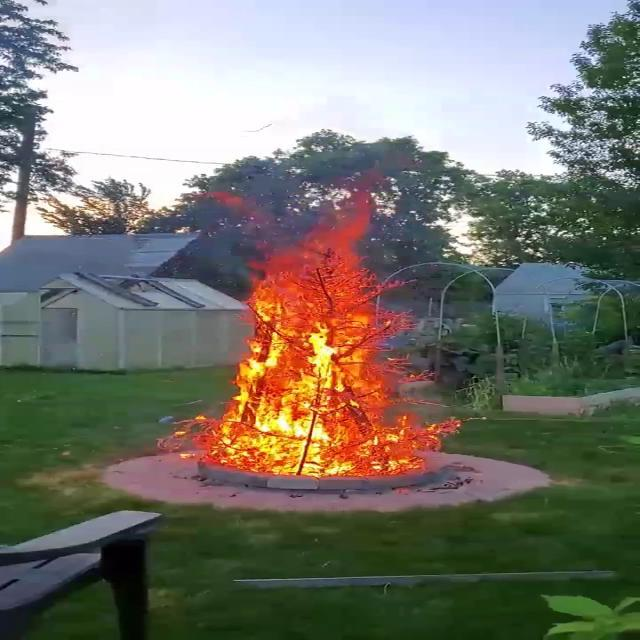Fire: (207, 215, 434, 480)
